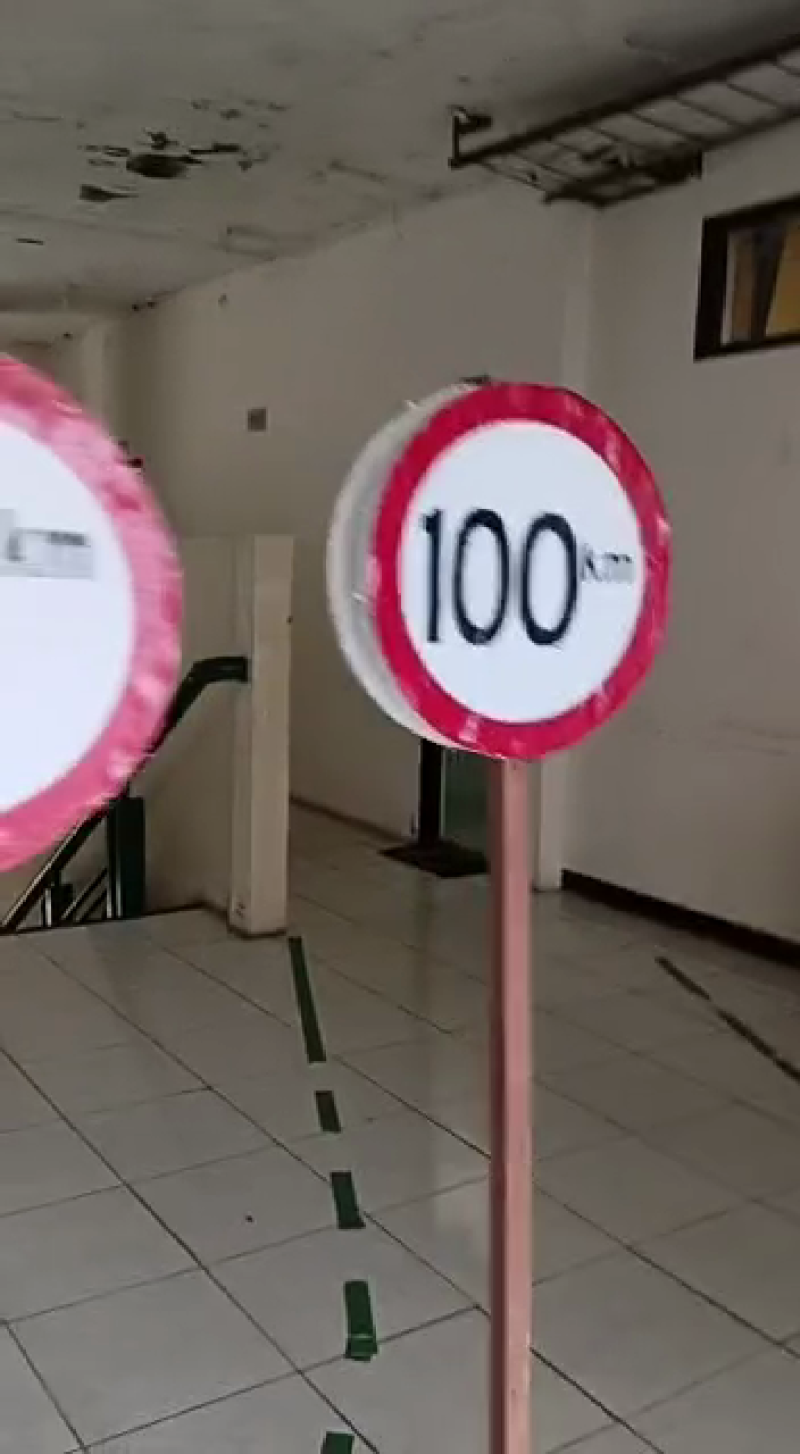batas maksimal 100kmperjam: (356, 377, 672, 771)
